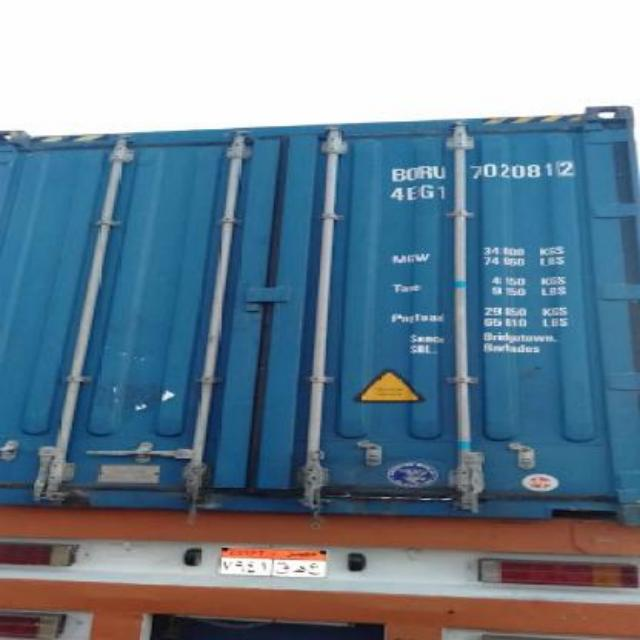0: (511, 157, 524, 183), (482, 162, 494, 182)
1: (544, 159, 558, 179)
2: (560, 159, 574, 183), (496, 158, 509, 180)
7: (464, 162, 484, 182)
8: (524, 160, 542, 184)
B: (391, 164, 404, 186)
O: (404, 162, 420, 184)
R: (421, 164, 434, 182)
U: (432, 162, 450, 182)
